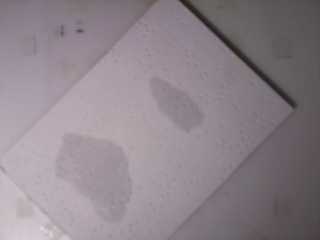Water_detected: (72, 149, 133, 208), (155, 83, 196, 130)
